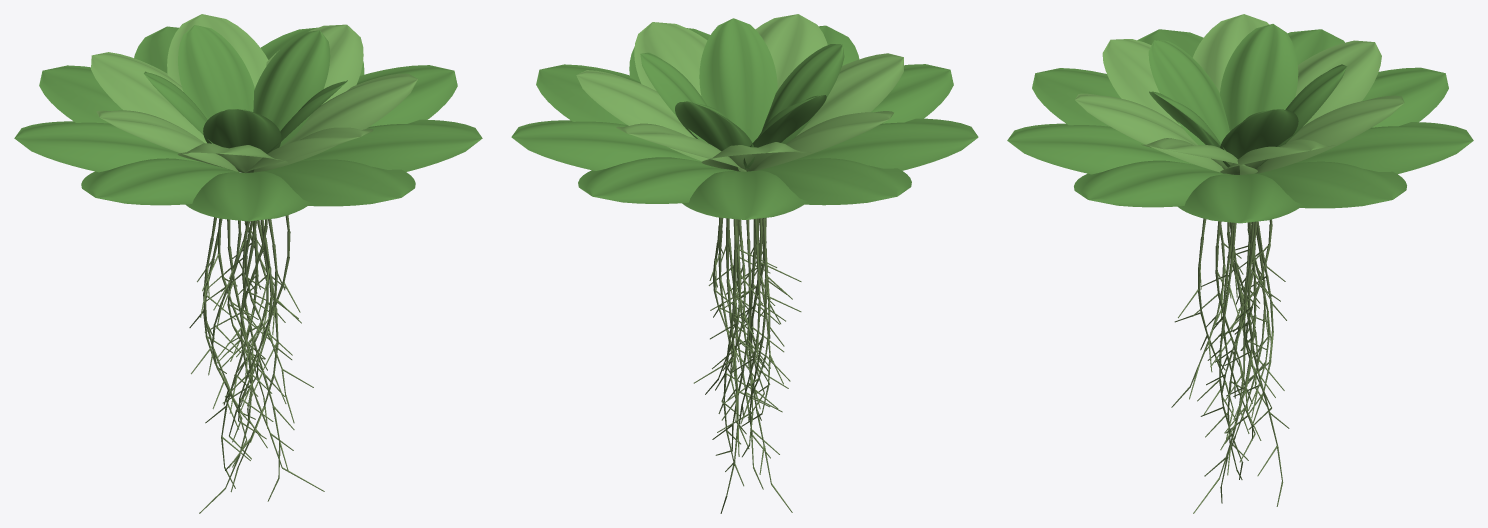
File: water_lettuce.glb
3 renders of one model, left to right at view 1: azimuth 30°, elevation 25°; view 2: azimuth 150°, elevation 25°; view 3: azimuth 270°, elevation 25°, orthographic.
Parts seen in each view (by area): view 1: rosette_leaf_0_1, rosette_leaf_0_5, rosette_leaf_2_3, rosette_leaf_2_4, rosette_leaf_0_2, rosette_leaf_0_4, rosette_leaf_0_3, rosette_leaf_1_0, rosette_leaf_1_4, rosette_leaf_0_6, rosette_leaf_0_0, rosette_leaf_1_3 (+9 smaller); view 2: rosette_leaf_2_0, rosette_leaf_0_8, rosette_leaf_0_4, rosette_leaf_0_5, rosette_leaf_0_7, rosette_leaf_0_6, rosette_leaf_1_2, rosette_leaf_1_6, rosette_leaf_1_0, rosette_leaf_0_3, rosette_leaf_2_1, rosette_leaf_0_0 (+8 smaller); view 3: rosette_leaf_2_2, rosette_leaf_0_7, rosette_leaf_0_2, rosette_leaf_0_8, rosette_leaf_0_1, rosette_leaf_0_0, rosette_leaf_2_1, rosette_leaf_1_4, rosette_leaf_1_1, rosette_leaf_1_5, rosette_leaf_0_6, rosette_leaf_0_3 (+9 smaller).
Part boxes in pixels (<box>): rosette_leaf_0_1: <box>299,119,482,171</box>; rosette_leaf_0_5: <box>14,121,205,172</box>; rosette_leaf_2_3: <box>178,25,254,119</box>; rosette_leaf_2_4: <box>253,30,330,147</box>; rosette_leaf_0_2: <box>259,159,415,206</box>; rosette_leaf_0_4: <box>81,158,238,205</box>; rosette_leaf_0_3: <box>185,171,311,221</box>; rosette_leaf_1_0: <box>280,73,417,167</box>; rosette_leaf_1_4: <box>91,52,206,143</box>; rosette_leaf_0_6: <box>39,65,122,123</box>; rosette_leaf_0_0: <box>356,65,457,126</box>; rosette_leaf_1_3: <box>96,110,239,172</box>; rosette_leaf_2_0: <box>699,18,777,142</box>; rosette_leaf_0_8: <box>511,120,701,170</box>; rosette_leaf_0_4: <box>793,118,978,170</box>; rosette_leaf_0_5: <box>758,158,911,205</box>; rosette_leaf_0_7: <box>578,157,735,203</box>; rosette_leaf_0_6: <box>682,170,807,219</box>; rosette_leaf_1_2: <box>796,53,903,136</box>; rosette_leaf_1_6: <box>576,70,708,161</box>; rosette_leaf_1_0: <box>634,22,707,95</box>; rosette_leaf_0_3: <box>871,64,953,123</box>; rosette_leaf_2_1: <box>761,44,844,143</box>; rosette_leaf_0_0: <box>536,64,641,124</box>; rosette_leaf_2_2: <box>1220,24,1298,131</box>; rosette_leaf_0_7: <box>1295,122,1473,174</box>; rosette_leaf_0_2: <box>1007,123,1194,174</box>; rosette_leaf_0_8: <box>1254,161,1406,208</box>; rosette_leaf_0_1: <box>1074,160,1230,207</box>; rosette_leaf_0_0: <box>1178,174,1302,223</box>; rosette_leaf_2_1: <box>1148,40,1229,144</box>; rosette_leaf_1_4: <box>1295,40,1381,126</box>; rosette_leaf_1_1: <box>1075,93,1223,172</box>; rosette_leaf_1_5: <box>1256,95,1404,173</box>; rosette_leaf_0_6: <box>1362,67,1448,127</box>; rosette_leaf_0_3: <box>1032,68,1120,126</box>.
Size of the model in its own units: 0.8826 by 0.9276 by 0.8962.
